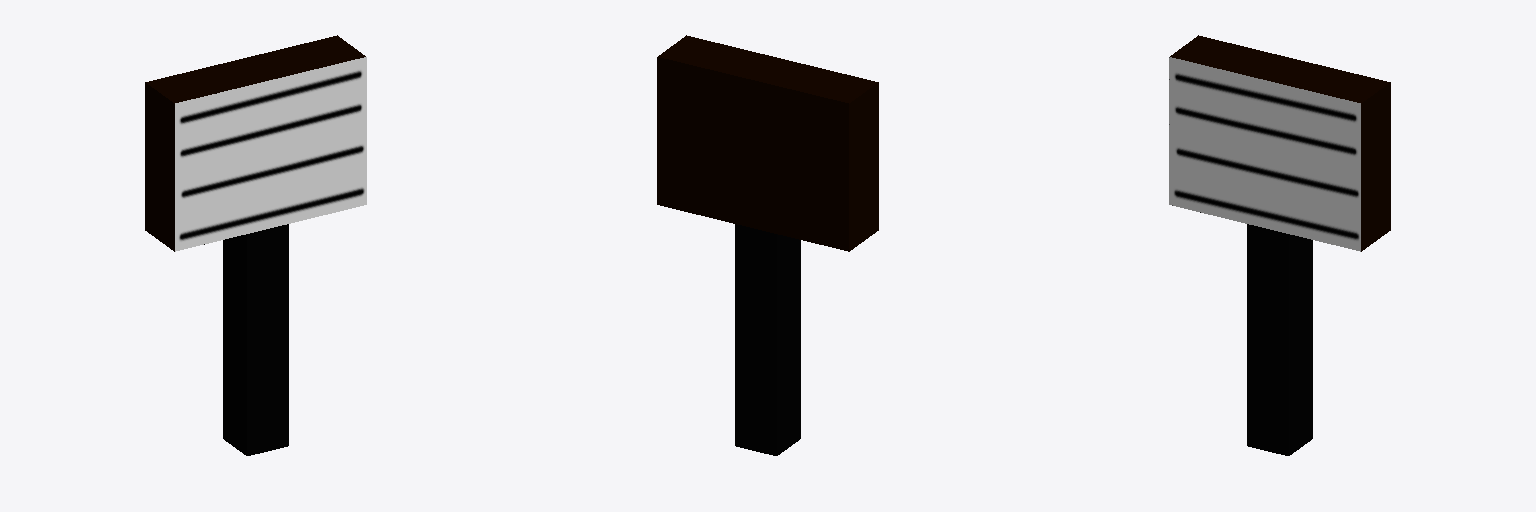
3 renders of one model, left to right at view 1: azimuth 30°, elevation 25°; view 2: azimuth 150°, elevation 25°; view 3: azimuth 330°, elevation 25°, orthographic.
Parts seen in each view (by area): view 1: 立方体.001, 立方体; view 2: 立方体.001, 立方体; view 3: 立方体.001, 立方体.
Part boxes in pixels (x1,y1,x2,y2): 立方体.001: (145, 35, 366, 251); 立方体: (223, 224, 288, 455); 立方体.001: (657, 35, 878, 251); 立方体: (735, 224, 800, 455); 立方体.001: (1169, 35, 1390, 251); 立方体: (1247, 224, 1312, 455).
Bounding box in the file's own units: 0.4777 × 0.8864 × 0.1255.
Materials: 3 (1 with a texture image).